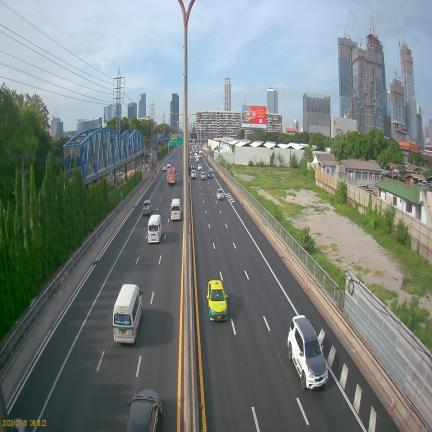bus: (167, 167, 176, 184)
car: (287, 315, 328, 389), (217, 188, 224, 200), (191, 169, 196, 179), (207, 170, 213, 178), (201, 171, 206, 180), (162, 165, 167, 171), (198, 164, 202, 170), (191, 164, 195, 169)
pickup: (142, 199, 153, 216)
taxi: (207, 280, 227, 320)
truck: (199, 150, 202, 158)
van: (113, 284, 142, 344), (148, 214, 162, 242), (171, 198, 181, 220)
